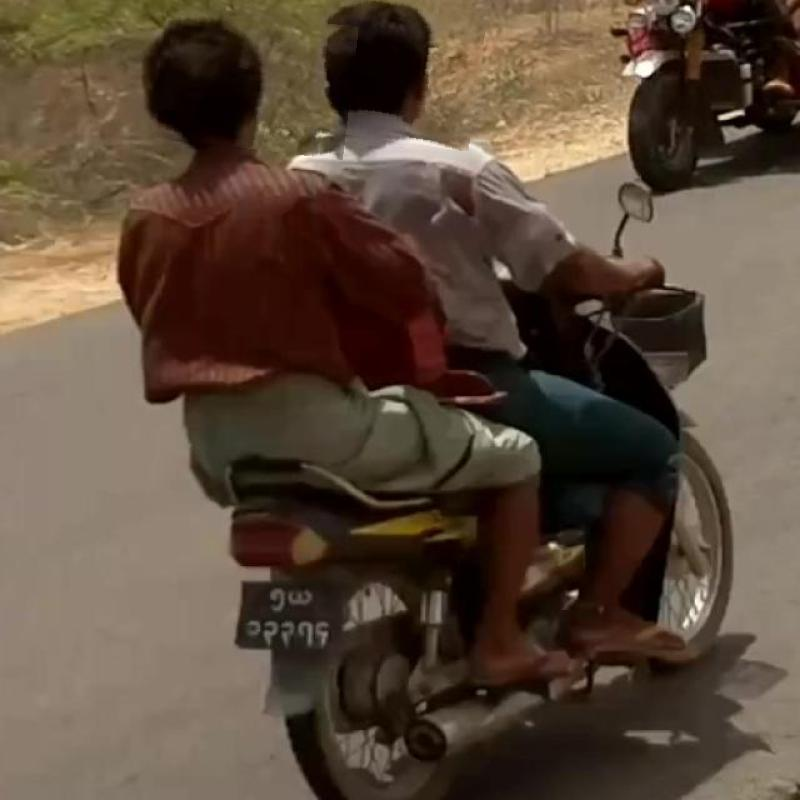nohelmet: (154, 9, 354, 154), (314, 0, 483, 146)
